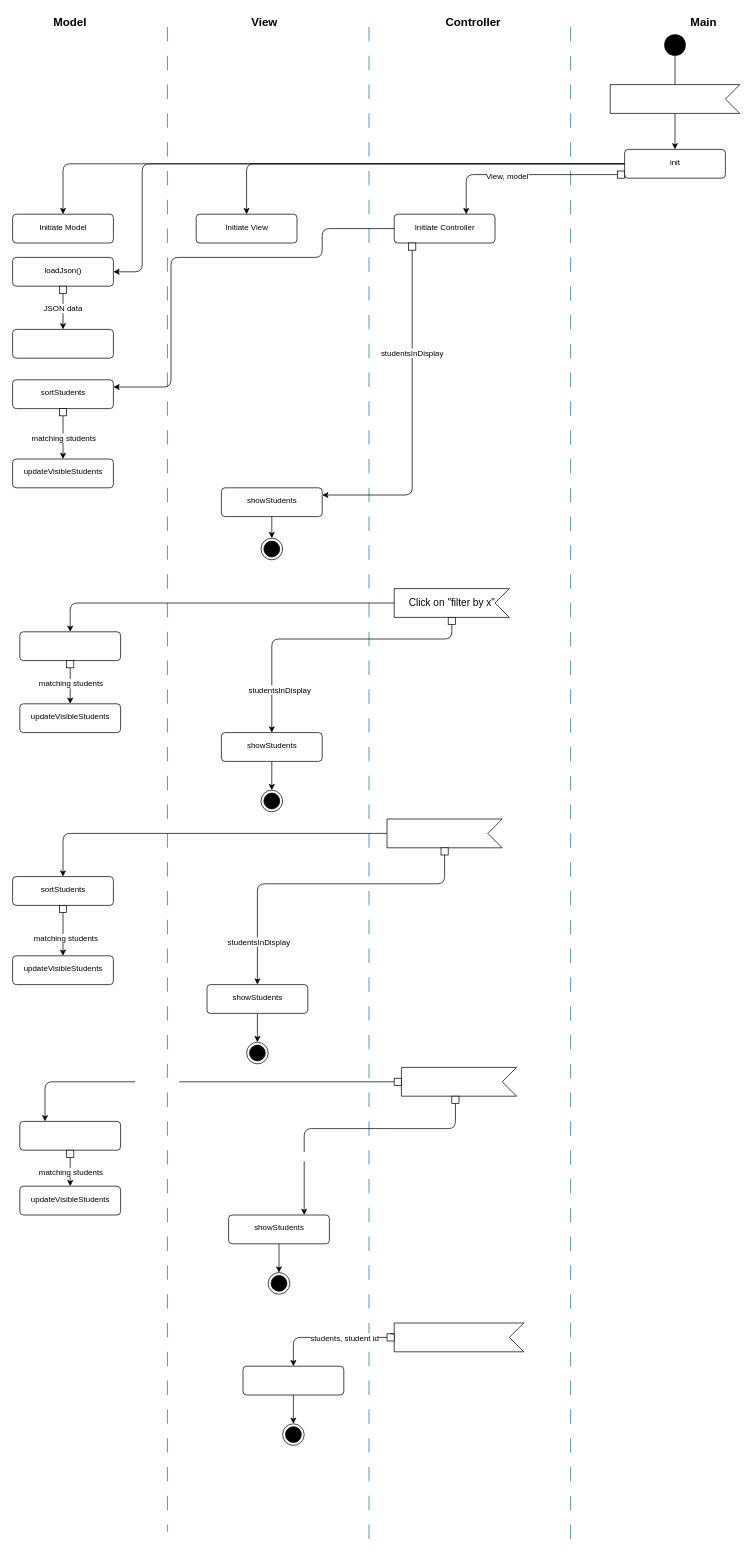
This 752x1559 diagram has some shape labels left out. The shapes that lost their labels are listed below. From the top down, each one's centre as x and y in pixels, then its label:
the point at 674,98: DOMContentLoaded
the point at 62,343: populateStudents
the point at 70,646: filterStudents
the point at 444,833: Chooses sorting
the point at 459,1081: "input" on search
the point at 70,1135: searchStudents
the point at 458,1337: click on open popup
the point at 293,1380: openPopup
